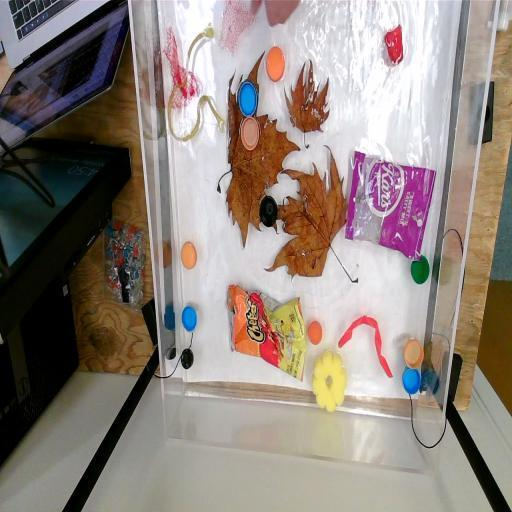Bottle Cap: (238, 114, 262, 152), (237, 78, 259, 118), (257, 192, 280, 230), (409, 252, 432, 290), (264, 45, 286, 84), (402, 336, 424, 372), (178, 238, 200, 272), (180, 304, 200, 338), (401, 366, 422, 398), (308, 316, 324, 352), (180, 347, 196, 369)
Cone Cap: (381, 20, 408, 72)
Leaf: (216, 56, 295, 246), (268, 146, 360, 288), (282, 54, 334, 153)
Netting: (162, 22, 202, 117), (216, 0, 259, 61)
Plastic Bag: (344, 145, 438, 267), (222, 276, 308, 392)
Plastic Strand: (166, 18, 228, 158), (338, 308, 398, 386)
Sponge: (310, 350, 348, 416)
